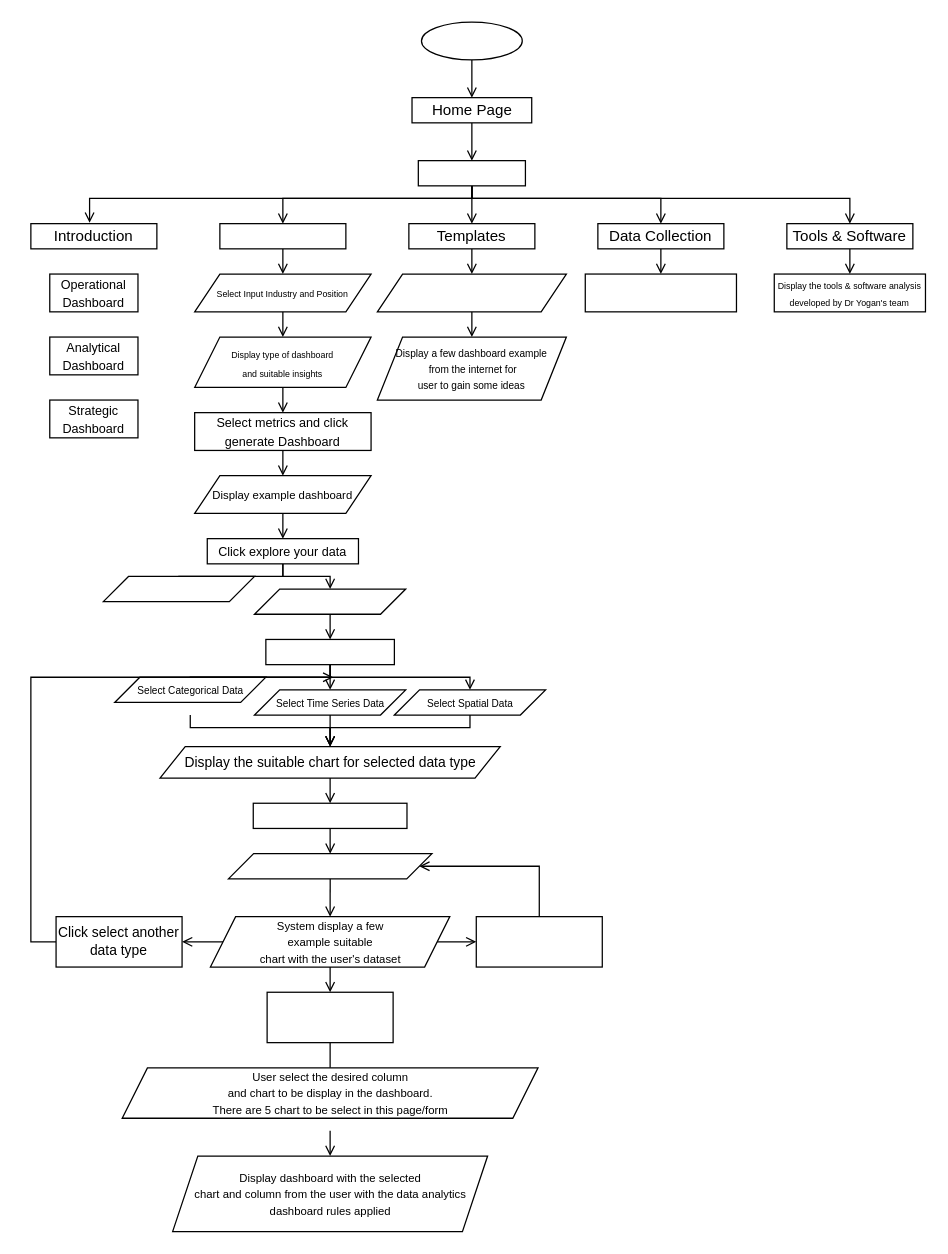
This 948x1254 diagram has some shape labels left out. Each missing label, with the centre of its shape:
Click display dashboard: [329,1017]
Click select another column: [538,941]
Click Visualize now button: [329,815]
Dr Choo's Link: [660,292]
Preview Dataset in table: [329,651]
Recommender: [282,235]
Select column to be displayed: [329,865]
Select Input Industry and dashboard type: [471,292]
Select position: [178,588]
Services: [471,172]
Start: [471,40]
Upload user's dataset: [329,601]
